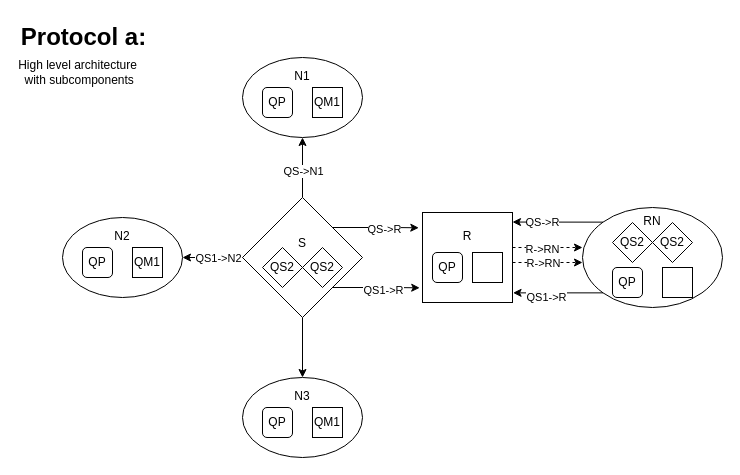
Image size: 740x475. Some labels were removed from this diagram. The centre of each missing label's shape, as x and y in pixels:
"QM2" belongs at [677,282].
"QM4" belongs at [487,267].
